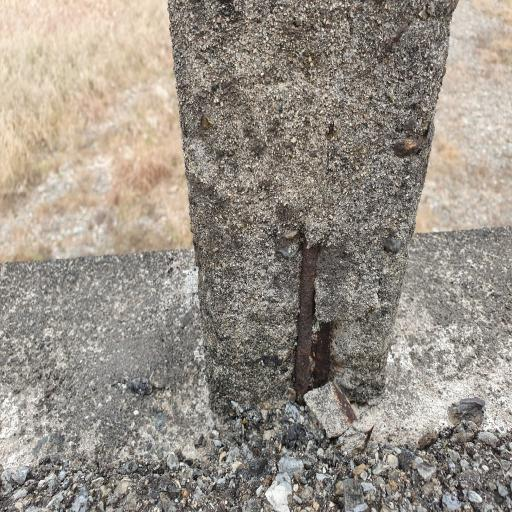exposed_rebar: (295, 244, 318, 396), (314, 324, 331, 388)
